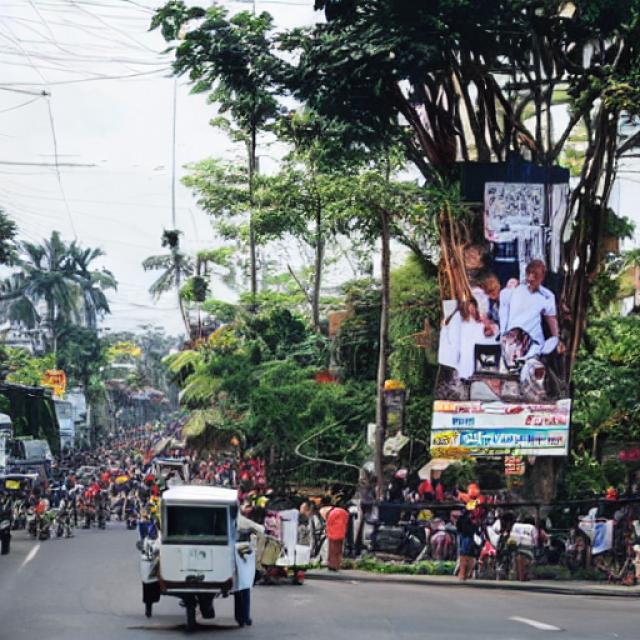Billboard: (427, 165, 573, 462)
